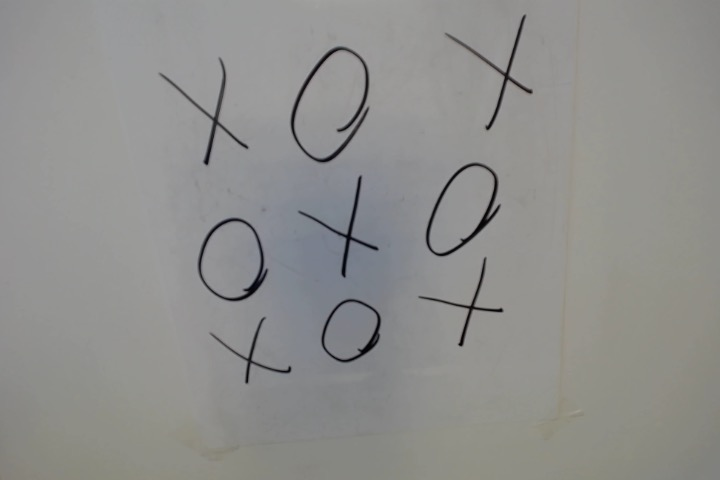0: (285, 44, 374, 164), (415, 160, 501, 255), (193, 211, 272, 308), (316, 297, 384, 366)
x: (154, 57, 254, 171), (450, 19, 537, 134), (290, 173, 381, 278), (419, 261, 507, 349), (205, 316, 293, 392)
